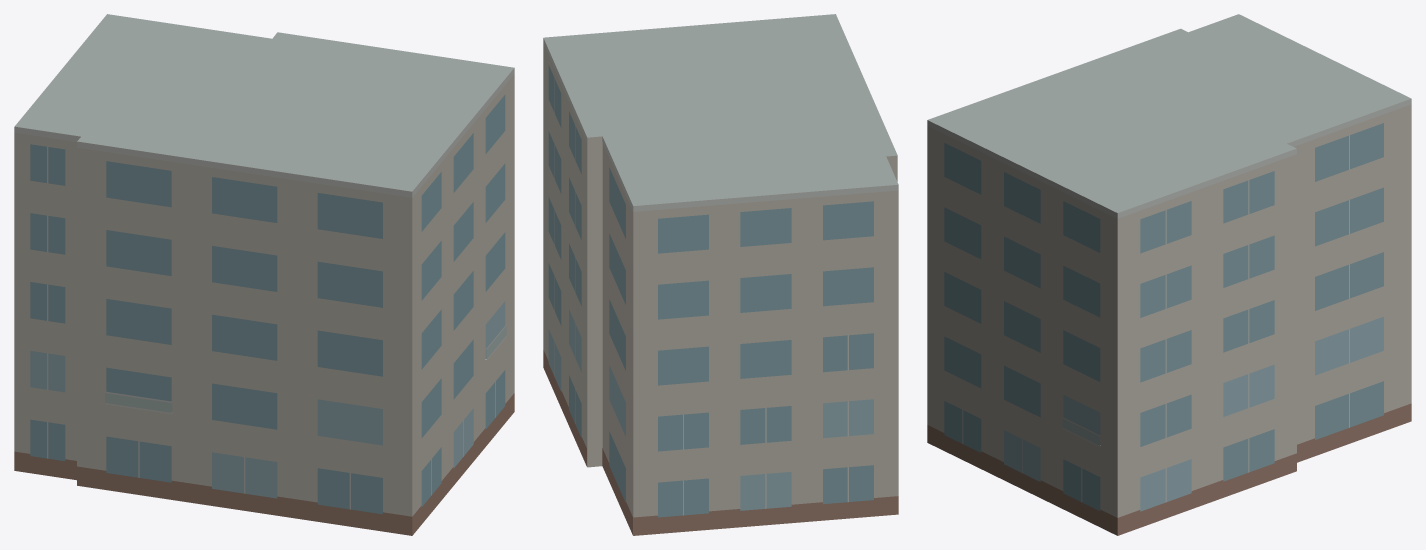
Rendered from survey-upis-32766377.glb.
3 views of the same model, side by side, from view 1: azimuth 30°, elevation 25°; view 2: azimuth 150°, elevation 25°; view 3: azimuth 270°, elevation 25° (orthographic). The views are drawn at different scales.
Parts seen in each view (by area): view 1: survey-upis-32766377.tmp; view 2: survey-upis-32766377.tmp; view 3: survey-upis-32766377.tmp.
Boxes of the visible parts, bbox=[...] form: survey-upis-32766377.tmp: bbox=[14, 14, 514, 535]; survey-upis-32766377.tmp: bbox=[543, 14, 898, 535]; survey-upis-32766377.tmp: bbox=[927, 14, 1411, 535].
Size of the model in its own units: 18.41 by 13.9 by 18.92.
